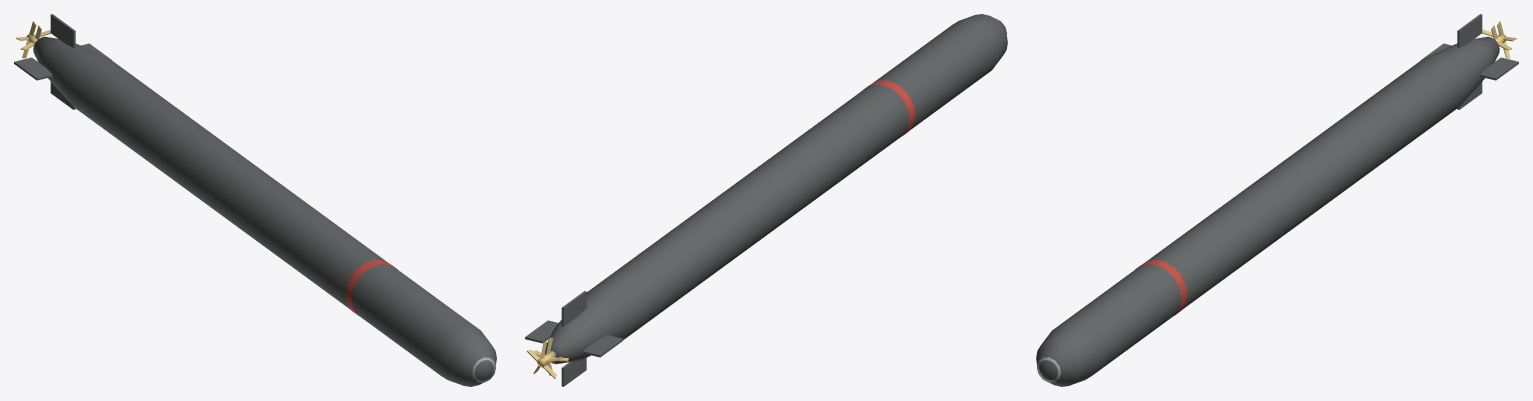
File: craft_ordnance.glb
3 renders of one model, left to right at view 1: azimuth 30°, elevation 25°; view 2: azimuth 150°, elevation 25°; view 3: azimuth 330°, elevation 25°, orthographic.
Visible parts, largest first — view 1: torpedo; view 2: torpedo; view 3: torpedo.
Part boxes in pixels (x1,y1,x2,y2): torpedo: [14, 14, 496, 386]; torpedo: [525, 14, 1007, 386]; torpedo: [1036, 14, 1518, 386].
Bounding box in the file's own units: 0.7598 × 0.7598 × 7.98.
